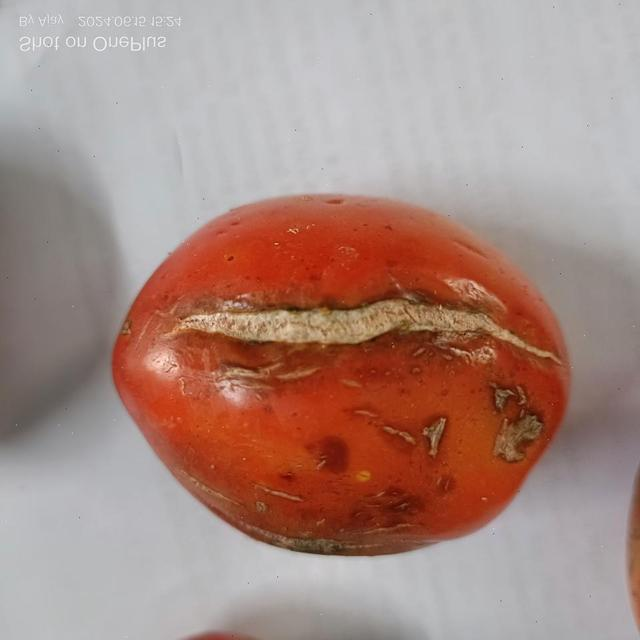Cracking Fruit: (222, 222, 360, 267)
